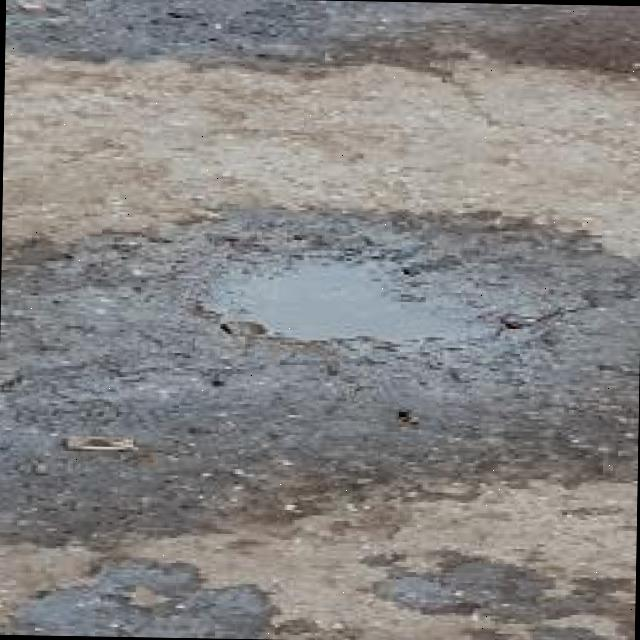stagnation: (189, 240, 512, 358)
